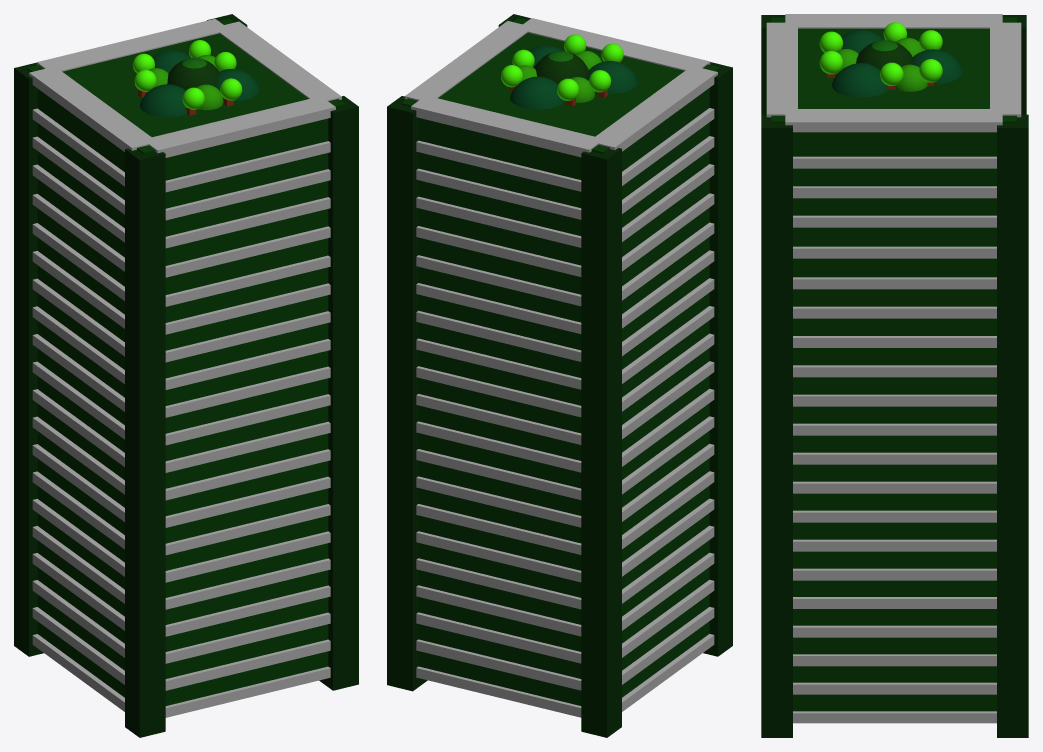
File: MainBuild_Green.fbx
The picture shows the model from 3 angles, left to right: view 1: azimuth 30°, elevation 25°; view 2: azimuth 150°, elevation 25°; view 3: azimuth 270°, elevation 25°; orthographic projection. The views are drawn at different scales.
Parts seen in each view (by area): view 1: pCube1, pasted__pasted__pasted__pasted__pasted__pasted__pasted__past (×31), pasted__pasted__pCube2, pasted__pCube2, pasted__pasted__pasted__pCube2, pasted__pasted__pasted__pCube3 (×2), pasted__pasted__pasted__pasted__pasted__pasted__pasted__pCub (×2), pasted__pasted__pasted__pasted__pasted__pCube3 (×2), pasted__pasted__pasted__pasted__pasted__pasted__pCube3 (×2), pasted__pasted__pasted__pasted__pCube3 (×2), pCube3, pasted__pCube3 (+4 smaller); view 2: pCube1, pasted__pasted__pasted__pasted__pasted__pasted__pasted__past (×30), pasted__pasted__pasted__pCube2, pCube2, pasted__pasted__pCube2, pasted__pasted__pasted__pasted__pCube3 (×2), pasted__pasted__pCube3 (×2), pasted__pasted__pasted__pasted__pasted__pasted__pCube3 (×2), pasted__pasted__pasted__pasted__pasted__pasted__pasted__pCub (×2), pasted__pasted__pasted__pCube3 (×2), pasted__pasted__pasted__pasted__pasted__pCube3 (×2), pCube3 (+4 smaller); view 3: pCube1, pasted__pasted__pasted__pasted__pasted__pasted__pasted__past (×20), pCube2, pasted__pCube2, pasted__pCube3, pasted__pasted__pCube3, pasted__pasted__pasted__pCube3, pasted__pasted__pasted__pasted__pCube3, pasted__pasted__pasted__pasted__pasted__pasted__pCube3, pasted__pasted__pasted__pasted__pasted__pasted__pasted__pCub, pasted__pasted__pasted__pasted__pasted__pCube3, pasted__pasted__pasted__pasted__pasted__pSphere1 (+5 smaller).
Boxes of the visible parts, left/top/right/bottom form: pCube1: left=27, top=18, right=344, bottom=705; pasted__pasted__pasted__pasted__pasted__pasted__pasted__past (×31): left=29, top=19, right=341, bottom=582; pasted__pasted__pCube2: left=125, top=148, right=165, bottom=737; pasted__pCube2: left=319, top=96, right=358, bottom=690; pasted__pasted__pasted__pCube2: left=14, top=62, right=43, bottom=656; pasted__pasted__pasted__pCube3 (×2): left=32, top=553, right=330, bottom=717; pasted__pasted__pasted__pasted__pasted__pasted__pasted__pCub (×2): left=32, top=444, right=330, bottom=609; pasted__pasted__pasted__pasted__pasted__pCube3 (×2): left=32, top=499, right=330, bottom=663; pasted__pasted__pasted__pasted__pasted__pasted__pCube3 (×2): left=32, top=471, right=330, bottom=636; pasted__pasted__pasted__pasted__pCube3 (×2): left=32, top=526, right=330, bottom=690; pCube3: left=32, top=634, right=124, bottom=711; pasted__pCube3: left=32, top=607, right=124, bottom=684; pCube1: left=401, top=18, right=719, bottom=705; pasted__pasted__pasted__pasted__pasted__pasted__pasted__past (×30): left=404, top=18, right=717, bottom=554; pasted__pasted__pasted__pCube2: left=581, top=148, right=621, bottom=737; pCube2: left=387, top=96, right=427, bottom=691; pasted__pasted__pCube2: left=703, top=62, right=732, bottom=656; pasted__pasted__pasted__pasted__pCube3 (×2): left=416, top=525, right=714, bottom=663; pasted__pasted__pCube3 (×2): left=416, top=579, right=714, bottom=717; pasted__pasted__pasted__pasted__pasted__pasted__pCube3 (×2): left=416, top=471, right=714, bottom=609; pasted__pasted__pasted__pasted__pasted__pasted__pasted__pCub (×2): left=416, top=443, right=714, bottom=582; pasted__pasted__pasted__pCube3 (×2): left=416, top=552, right=714, bottom=690; pasted__pasted__pasted__pasted__pasted__pCube3 (×2): left=416, top=498, right=714, bottom=636; pCube3: left=622, top=634, right=714, bottom=711; pCube1: left=771, top=17, right=1016, bottom=711; pasted__pasted__pasted__pasted__pasted__pasted__pasted__past (×20): left=766, top=14, right=1021, bottom=522; pCube2: left=997, top=114, right=1028, bottom=737; pasted__pCube2: left=761, top=114, right=792, bottom=737; pasted__pCube3: left=793, top=711, right=996, bottom=723; pasted__pasted__pCube3: left=793, top=682, right=996, bottom=694; pasted__pasted__pasted__pCube3: left=793, top=654, right=996, bottom=666; pasted__pasted__pasted__pasted__pCube3: left=793, top=625, right=996, bottom=637; pasted__pasted__pasted__pasted__pasted__pasted__pCube3: left=793, top=568, right=996, bottom=580; pasted__pasted__pasted__pasted__pasted__pasted__pasted__pCub: left=793, top=539, right=996, bottom=551; pasted__pasted__pasted__pasted__pasted__pCube3: left=793, top=597, right=996, bottom=608; pasted__pasted__pasted__pasted__pasted__pSphere1: left=831, top=63, right=888, bottom=97.
Bounding box in the file's own units: 8.48 × 22.45 × 8.49.
